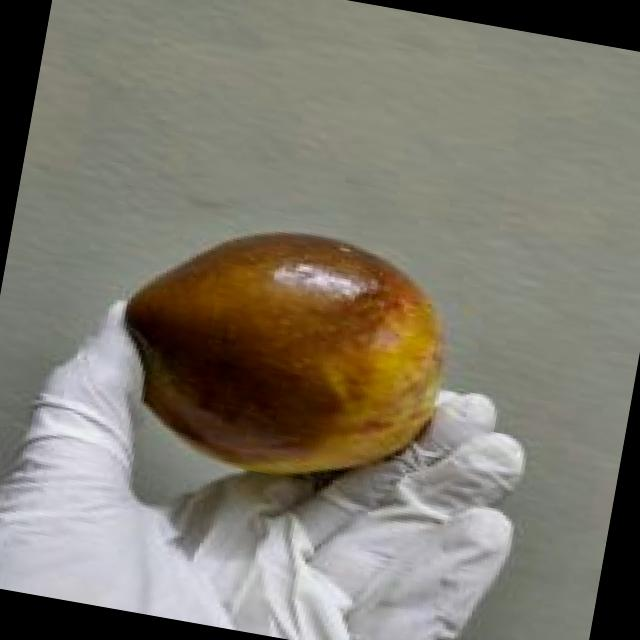Rotten_Apple: (28, 138, 538, 537)
